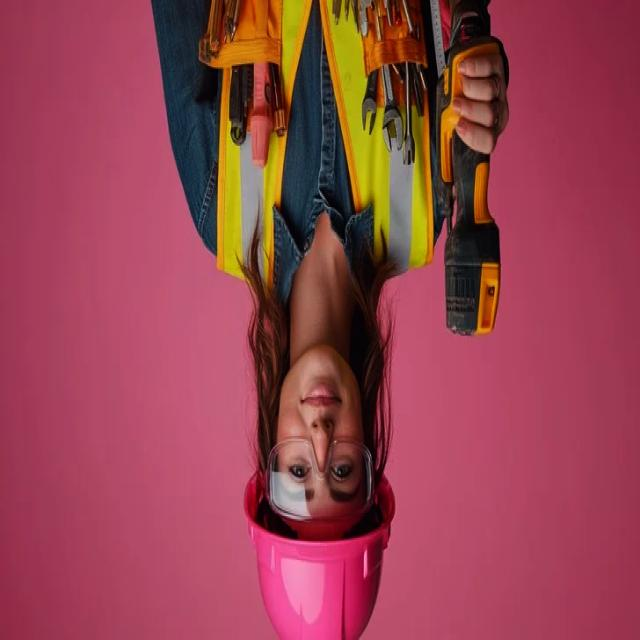Hard Hat: (232, 478, 409, 640)
Reflective Vest: (210, 0, 438, 298)
Safety Glasses: (260, 431, 386, 525)
